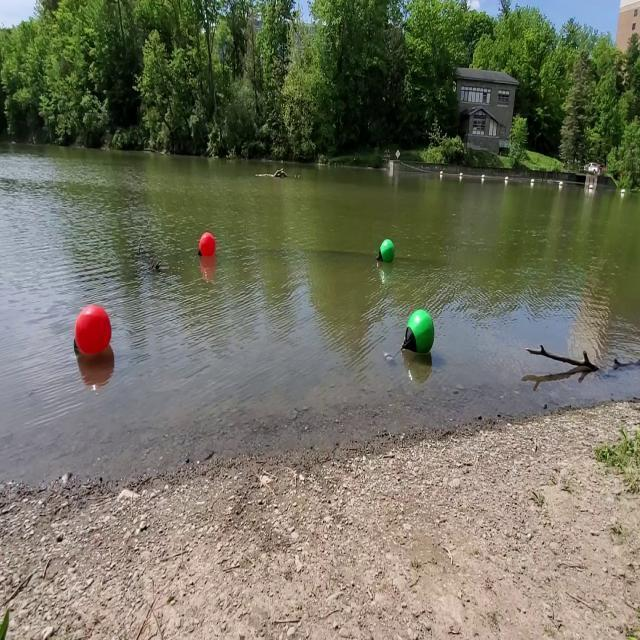buoy: (74, 303, 111, 353), (402, 310, 434, 354), (198, 232, 215, 258), (378, 238, 394, 264)
